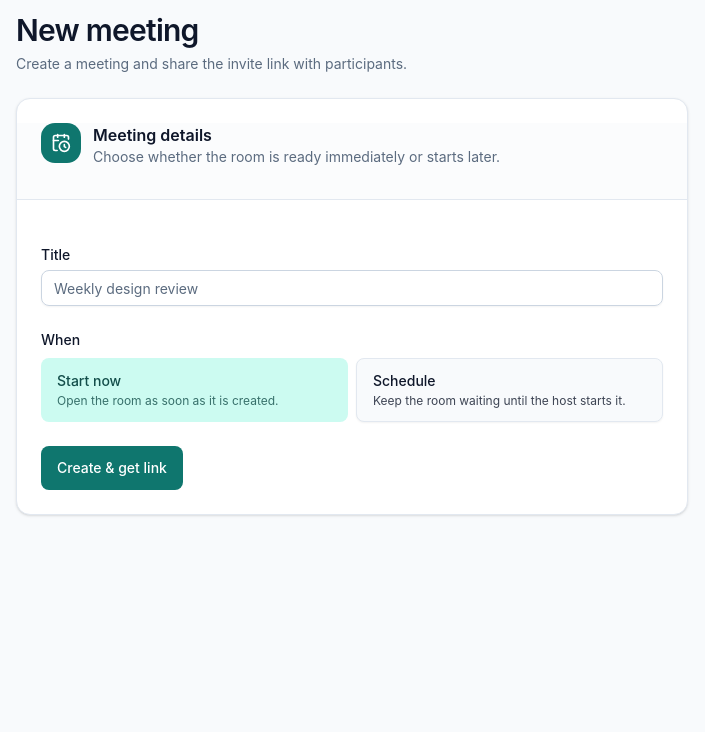
CreateMeeting › keeps the persisted invite available for copying and opening after creation
In the field labelled "Title": (352, 288) 41,270 -> 663,306, type "Design review"
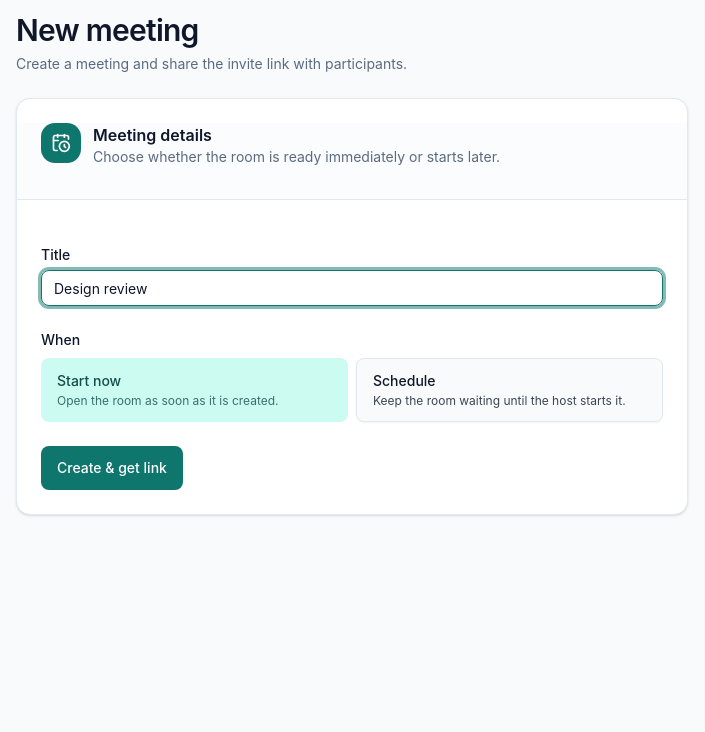
Click the button "Create & get link": (112, 468) 41,446 -> 183,490
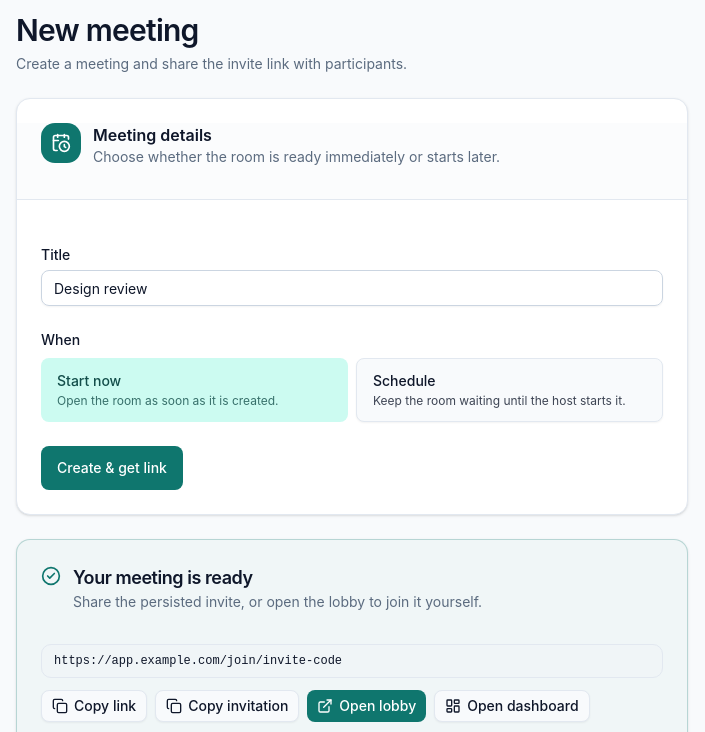
expect the text with test id "join-url" reads "https://app.example.com/join/invite-code": met, box 54,654 -> 342,668
expect the button "Copy invitation" is shown: met, box 155,690 -> 299,722
